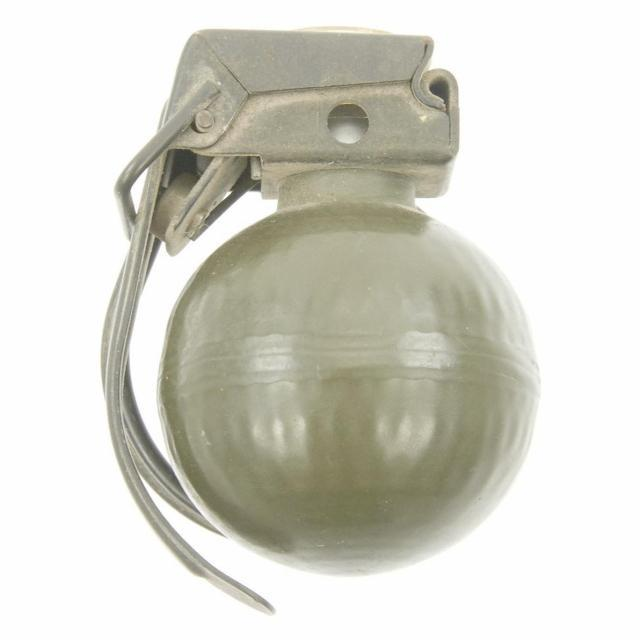Grenade: (100, 26, 542, 615)
